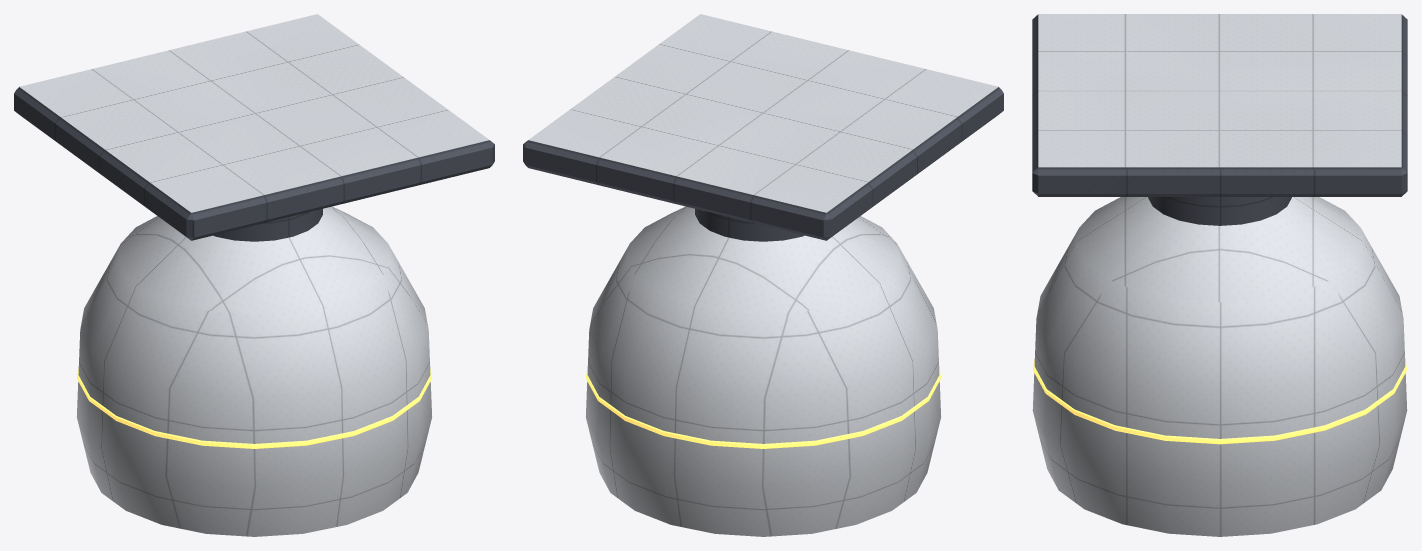
File: R4M_HoverEngine_LOD1.glb
3 renders of one model, left to right at view 1: azimuth 30°, elevation 25°; view 2: azimuth 150°, elevation 25°; view 3: azimuth 270°, elevation 25°, orthographic. The views are drawn at different scales.
Visible parts, largest first — view 1: R4M_HoverEngine_LOD1; view 2: R4M_HoverEngine_LOD1; view 3: R4M_HoverEngine_LOD1.
Part boxes in pixels (x1=…): R4M_HoverEngine_LOD1: x1=14, y1=14, x2=494, y2=536; R4M_HoverEngine_LOD1: x1=523, y1=14, x2=1003, y2=536; R4M_HoverEngine_LOD1: x1=1032, y1=14, x2=1407, y2=536.
Size of the model in its own units: 0.52 by 0.577 by 0.52.
5 materials, 4 textured.
